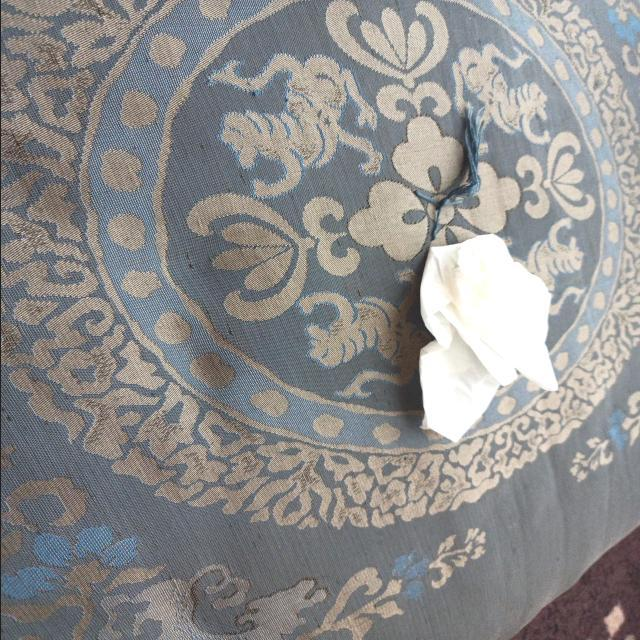Paper: (401, 210, 571, 459)
